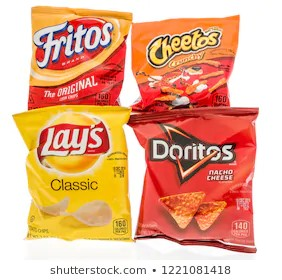lays-med: (20, 106, 127, 246)
